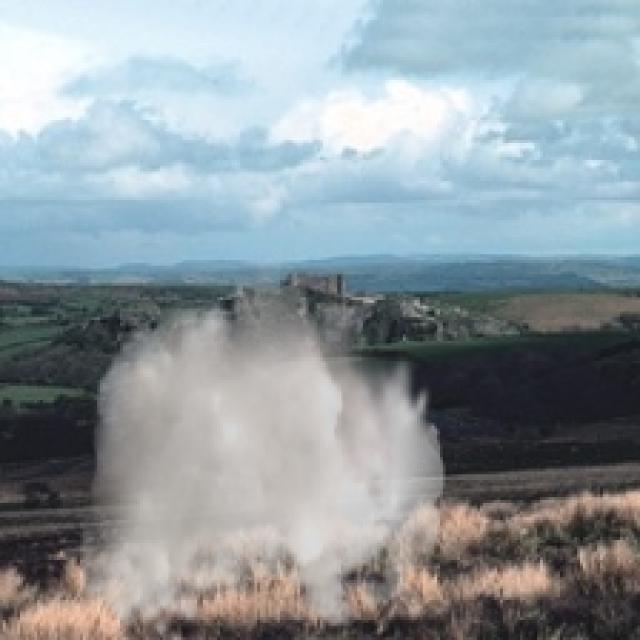Smoke: (77, 252, 449, 637)
